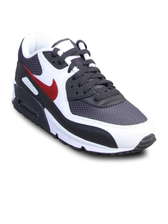shoes: (11, 30, 161, 161)
